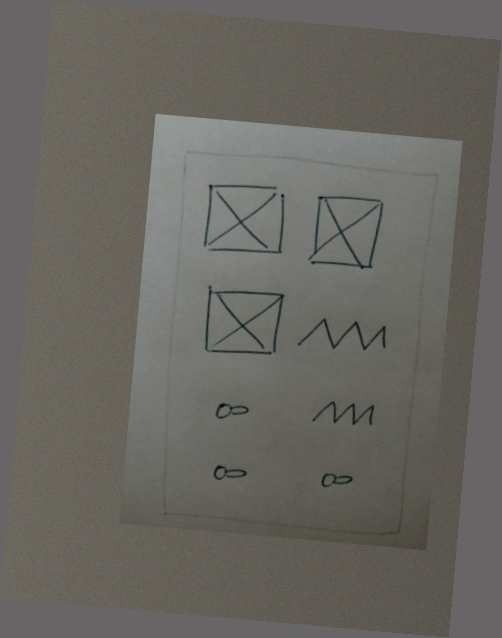image: (194, 175, 295, 263), (192, 282, 293, 365), (305, 187, 389, 275)
switch: (205, 453, 258, 495), (206, 393, 257, 433), (315, 464, 359, 496)
text: (294, 308, 393, 362), (302, 389, 382, 435)
